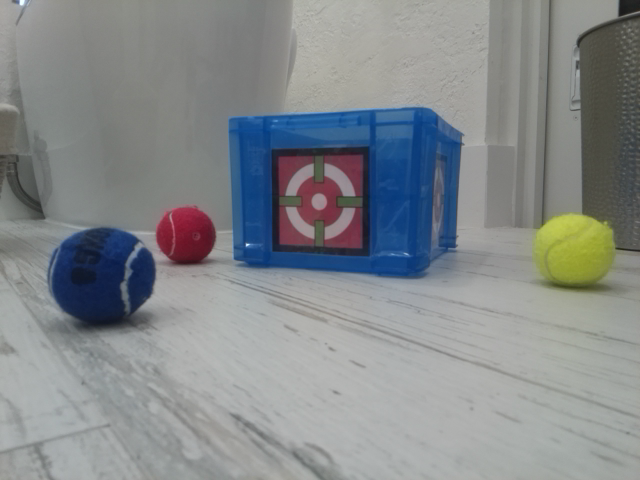blue-ball: (47, 226, 157, 327)
drop-bin: (271, 145, 371, 256)
red-ball: (156, 205, 217, 265)
yellow-ball: (532, 212, 616, 291)
